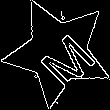M_NW: (24, 18, 92, 86)
